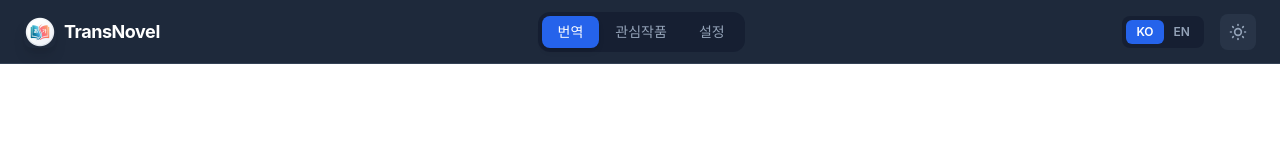
Test case: Header › shows a visible shortcut tooltip on hover for Windows and Linux
Hover over the tab with id "tab-translation".
mouse_move(570, 32)  # box x1=542 y1=16 x2=599 y2=48
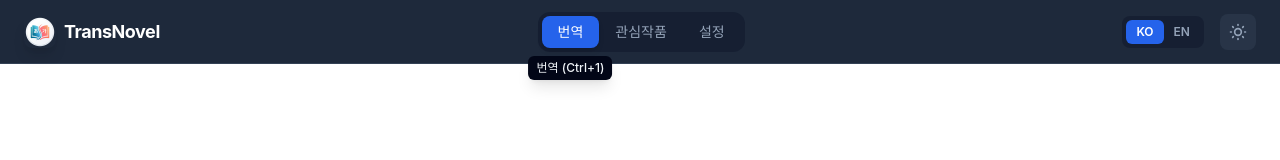
Expected: the text "번역 (Ctrl+1)" is shown, x1=528 y1=56 x2=612 y2=80
